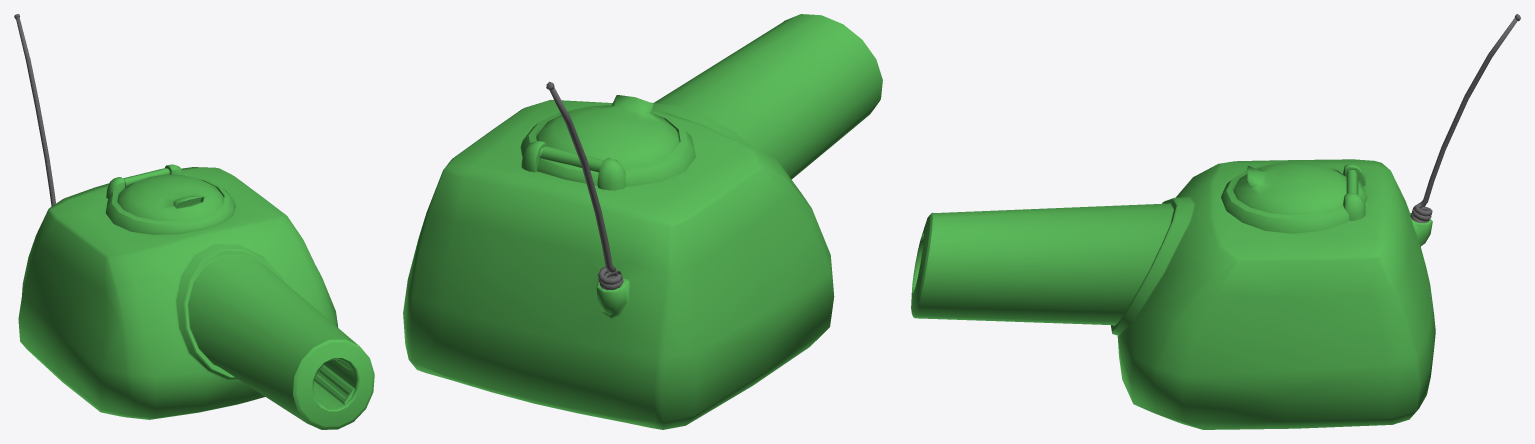
File: TankCannon.fbx
3 renders of one model, left to right at view 1: azimuth 30°, elevation 25°; view 2: azimuth 150°, elevation 25°; view 3: azimuth 270°, elevation 25°, orthographic. The views are drawn at different scales.
Visible parts, largest first — view 1: TankTurret; view 2: TankTurret; view 3: TankTurret.
Boxes of the visible parts, x1=… form: TankTurret: x1=14, y1=14, x2=374, y2=429; TankTurret: x1=403, y1=14, x2=882, y2=429; TankTurret: x1=911, y1=14, x2=1520, y2=429.
Bounding box in the file's own units: 129 × 153 × 253.
